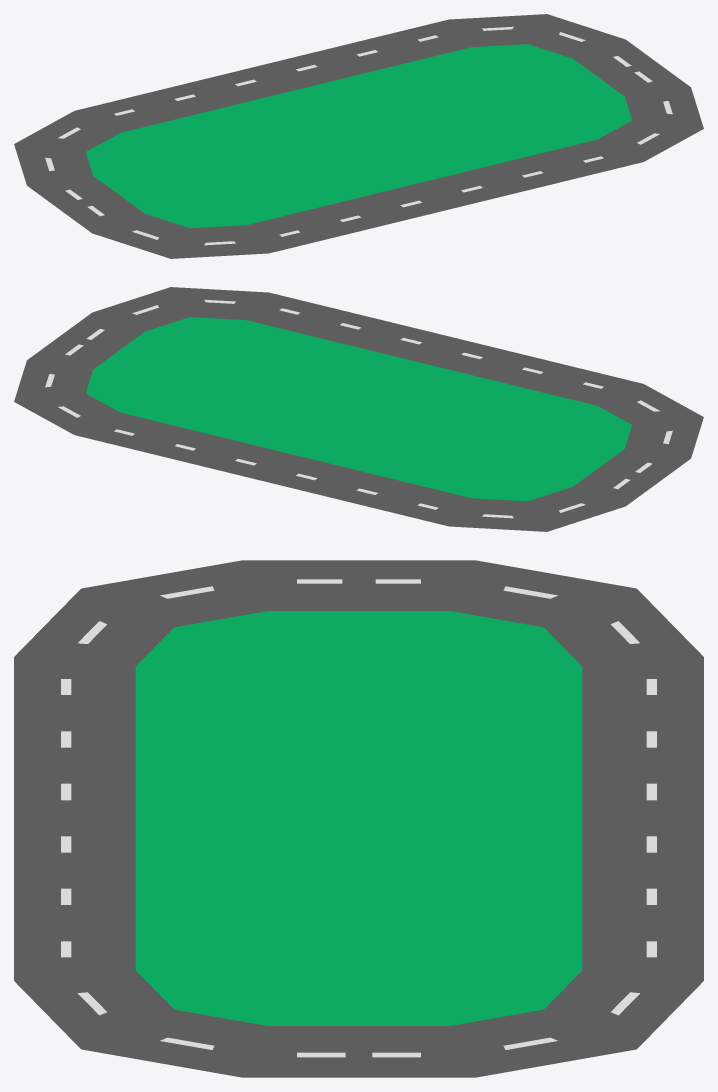
The model's file is carpet_009.glb.
3 views of the same model, one above another, from view 1: azimuth 30°, elevation 25°; view 2: azimuth 150°, elevation 25°; view 3: azimuth 270°, elevation 25° (orthographic). The views are drawn at different scales.
Parts seen in each view (by area): view 1: carpet_009; view 2: carpet_009; view 3: carpet_009.
Boxes of the visible parts, bbox=[...] form: carpet_009: bbox=[14, 14, 703, 258]; carpet_009: bbox=[14, 287, 703, 531]; carpet_009: bbox=[14, 560, 703, 1077].
Bounding box in the file's own units: 2.03 × 0.00142 × 1.14.
1 material, 1 textured.
